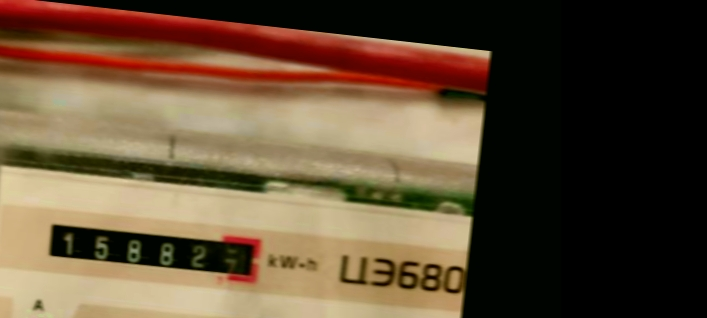1: (58, 233, 75, 260)
2: (188, 246, 206, 271)
5: (90, 236, 109, 263)
7: (220, 257, 236, 278)
8: (123, 240, 142, 268), (156, 243, 174, 270)
screen: (31, 209, 269, 298)
